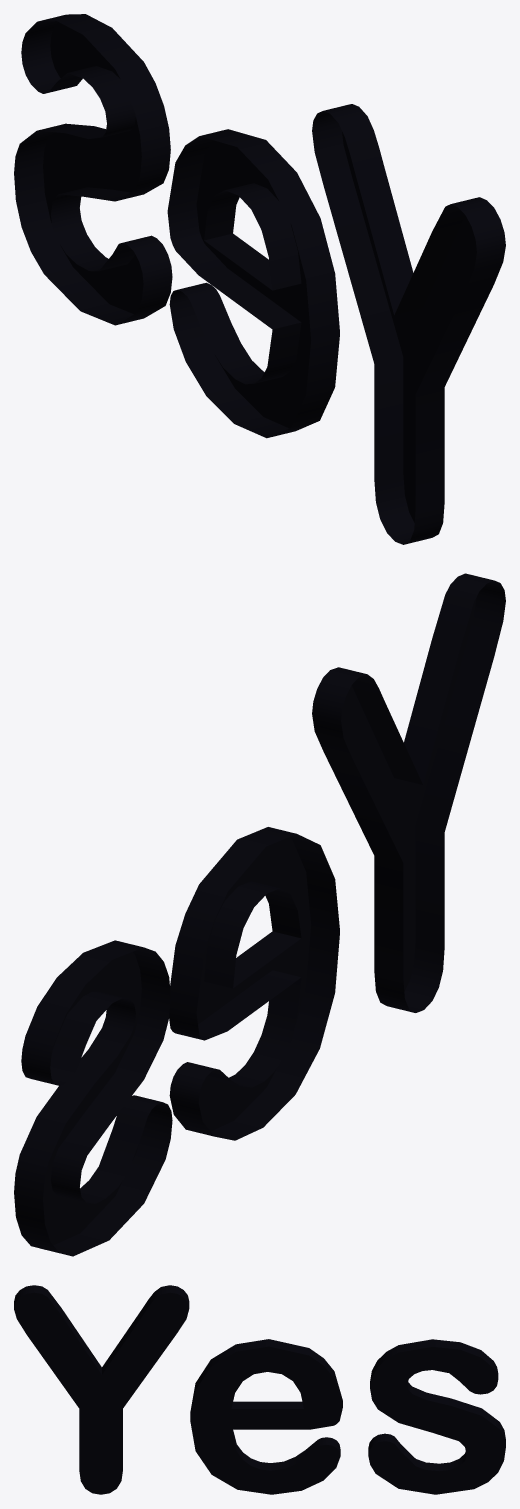
File: Text_Yes.fbx
3 views of the same model, one above another, from view 1: azimuth 30°, elevation 25°; view 2: azimuth 150°, elevation 25°; view 3: azimuth 270°, elevation 25° (orthographic). The views are drawn at different scales.
Visible parts, largest first — view 1: Text_Yes; view 2: Text_Yes; view 3: Text_Yes.
Boxes of the visible parts, x1,y1,x2,y2 form: Text_Yes: [14, 14, 505, 544]; Text_Yes: [14, 573, 505, 1256]; Text_Yes: [14, 1285, 505, 1494].
Bounding box in the file's own units: 0.2 × 2.51 × 5.54.
1 material, 1 textured.
